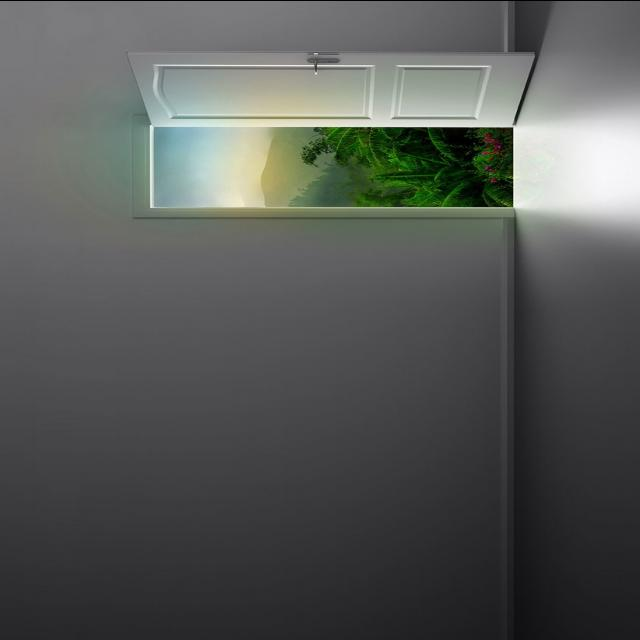open: (138, 50, 534, 216)
